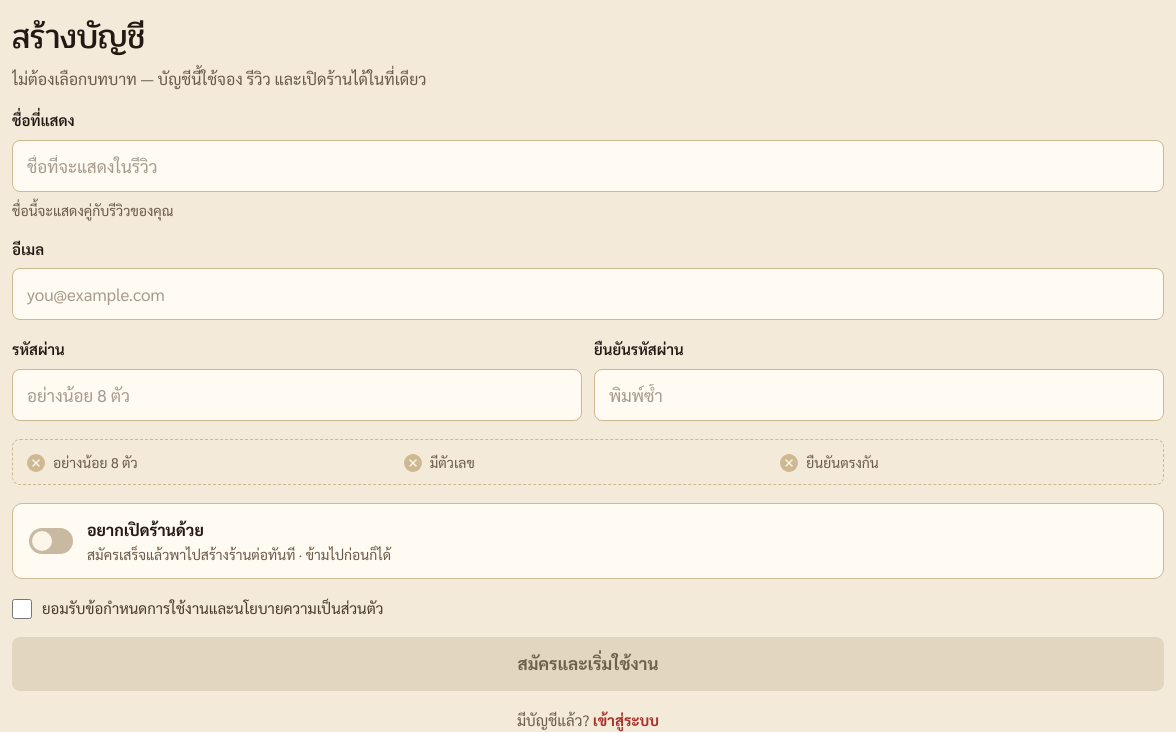
Test: RegisterForm › อีเมลซ้ำ → ขึ้นใต้ช่องอีเมล ไม่ login
This screenshot has width=1176, height=732.
Type "ต้น" into the field labelled "ชื่อที่แสดง" at (588, 166), box [12,140,1164,192]
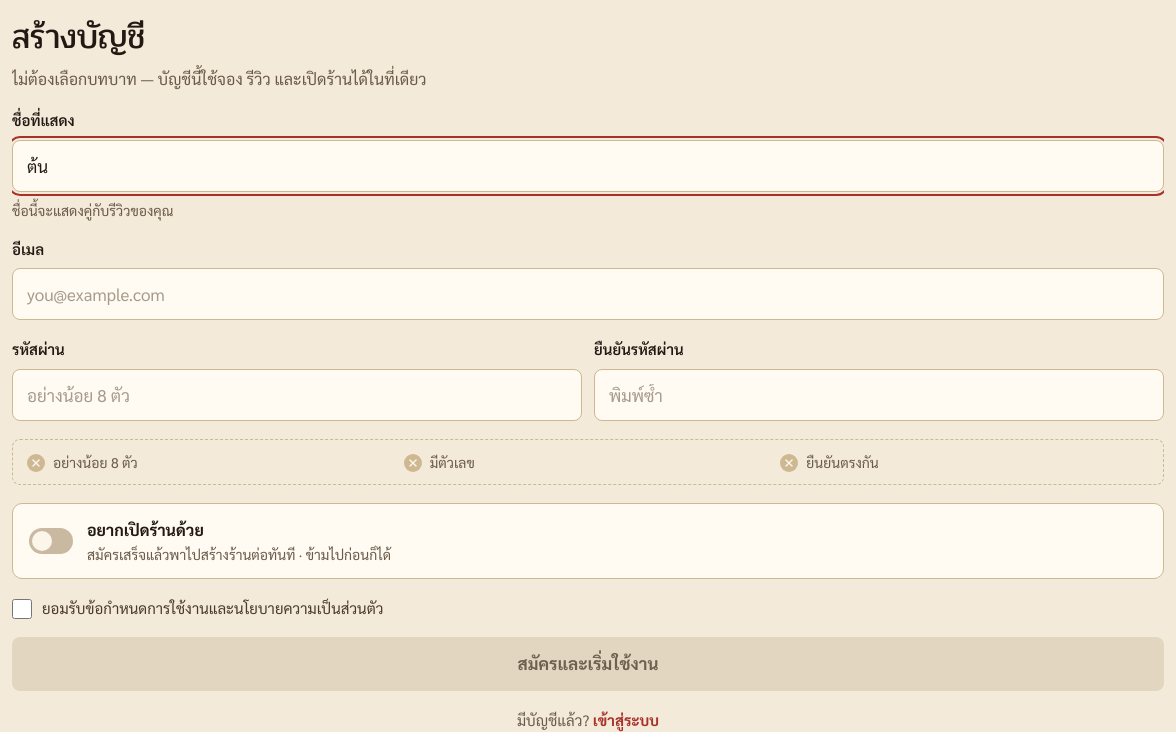
Type "ton@example.com" into the field labelled "อีเมล" at (588, 294), box [12,268,1164,320]
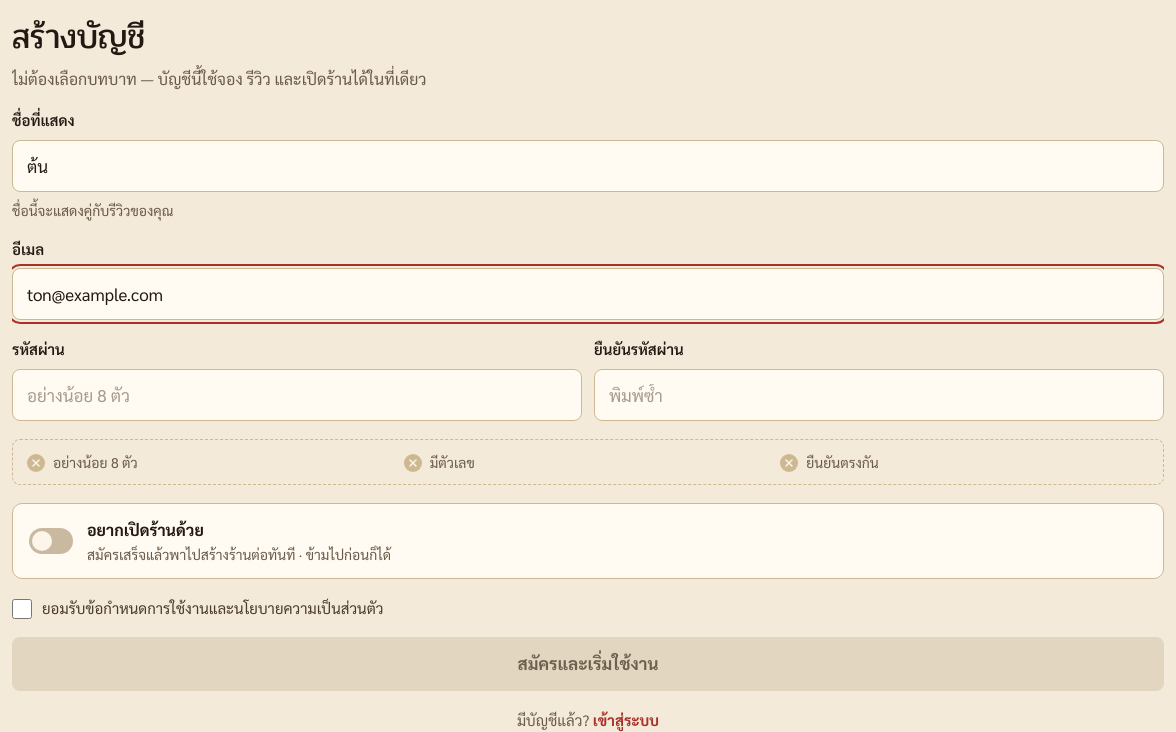
Type "password1" into the password field labelled "รหัสผ่าน" at (297, 394), box [12,368,582,420]
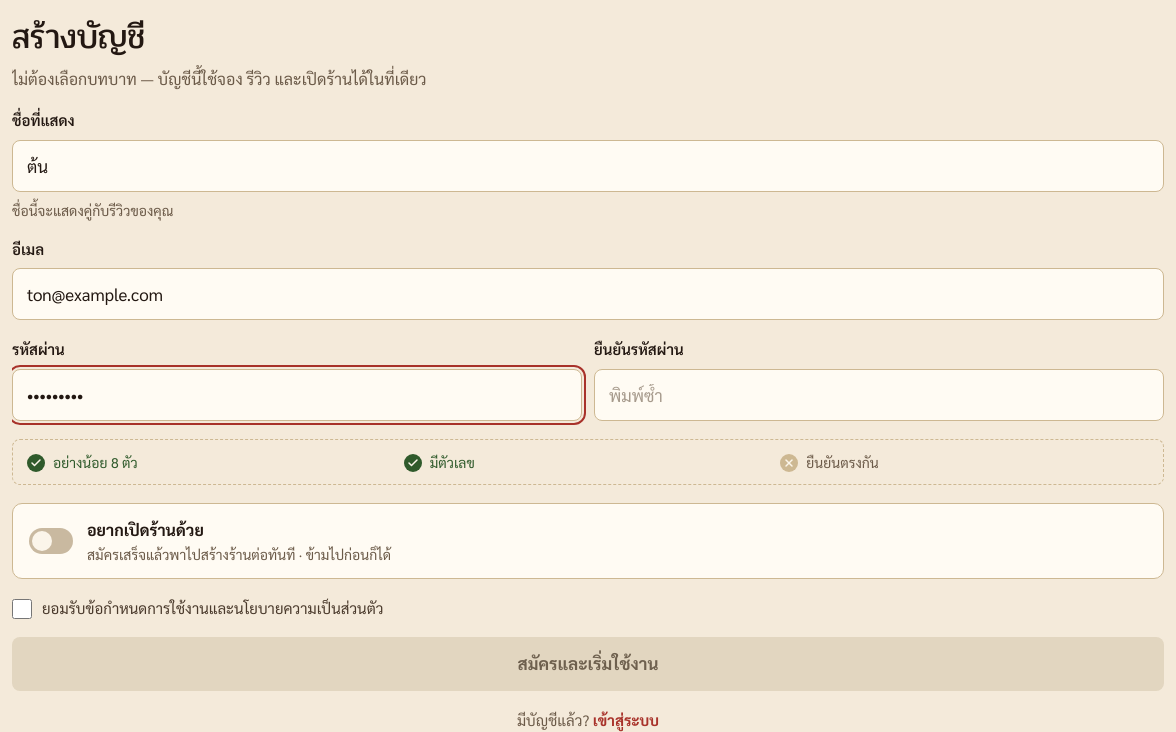
Type "password1" into the password field labelled "ยืนยันรหัสผ่าน" at (879, 394), box [594,368,1164,420]
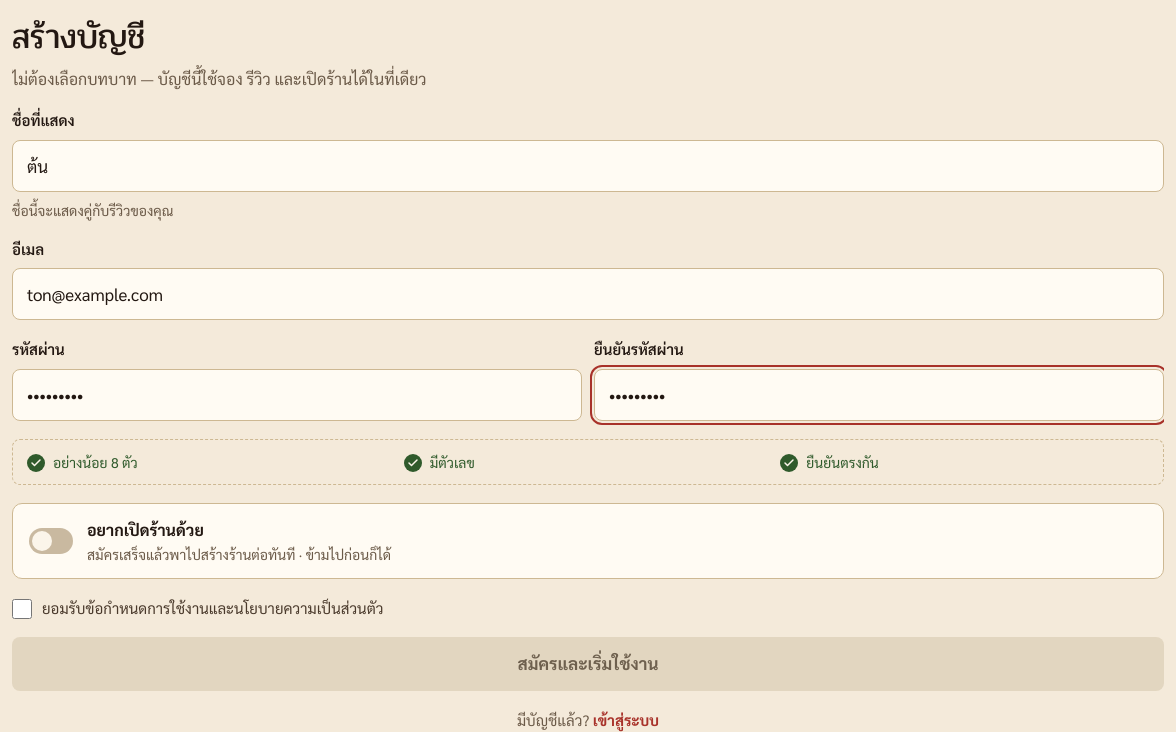
Click the checkbox at (22, 608), box [12,598,32,618]
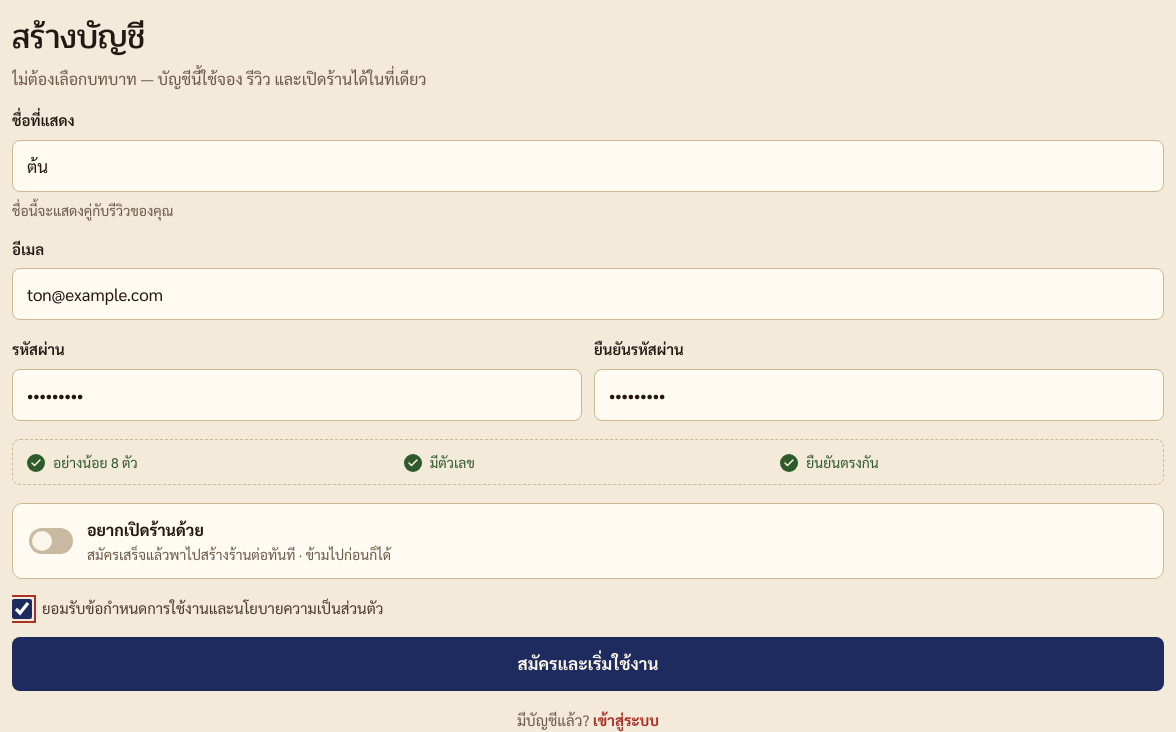
Click the button "สมัครและเริ่มใช้งาน" at (588, 664), box [12,637,1164,691]
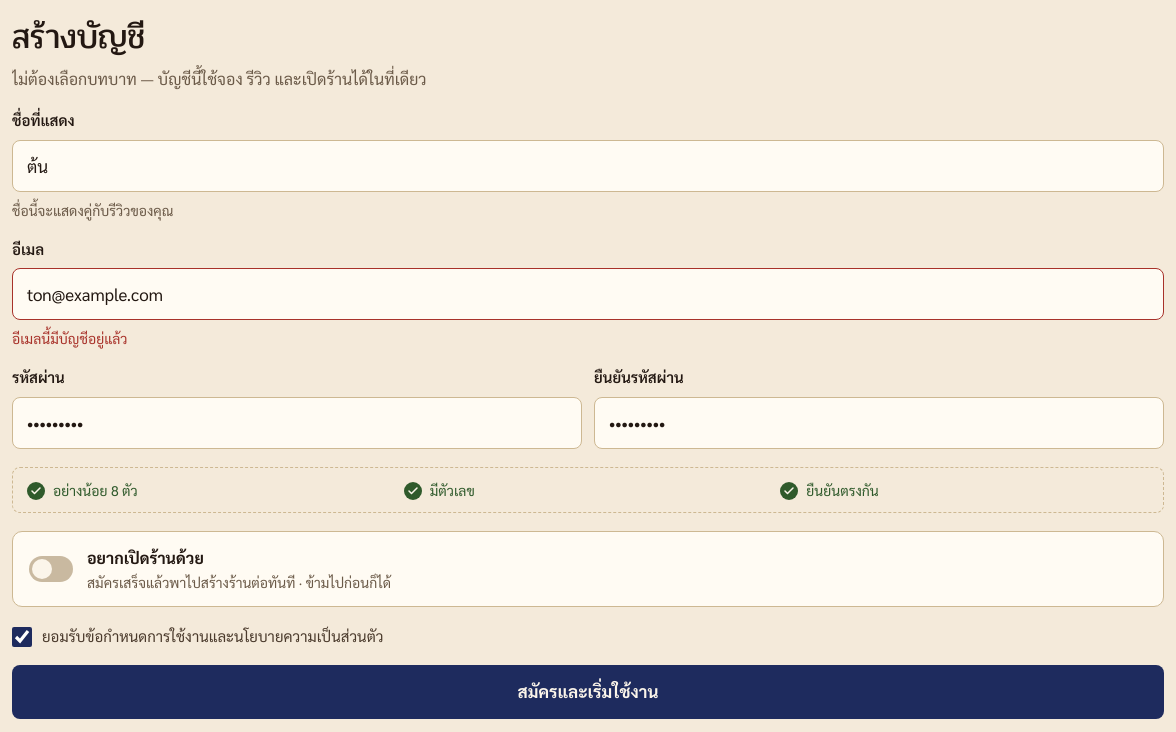
Result: the text "อีเมลนี้มีบัญชีอยู่แล้ว" is shown at [12,329,128,347]
